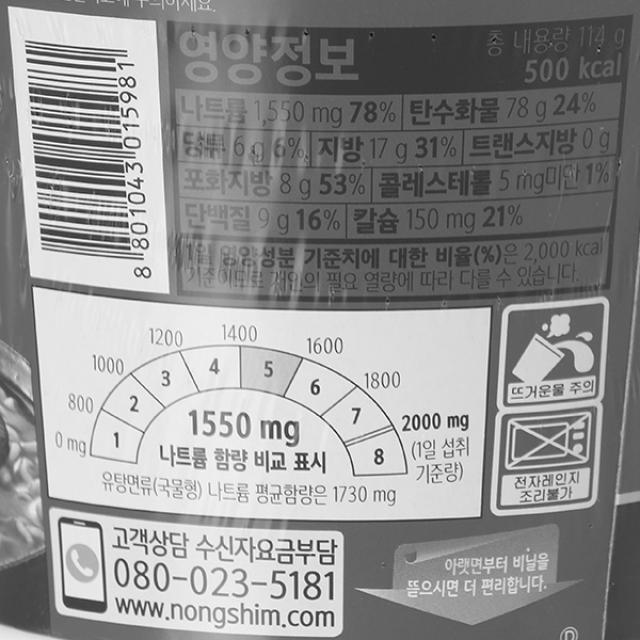Nutrition Label: (158, 9, 640, 310)
